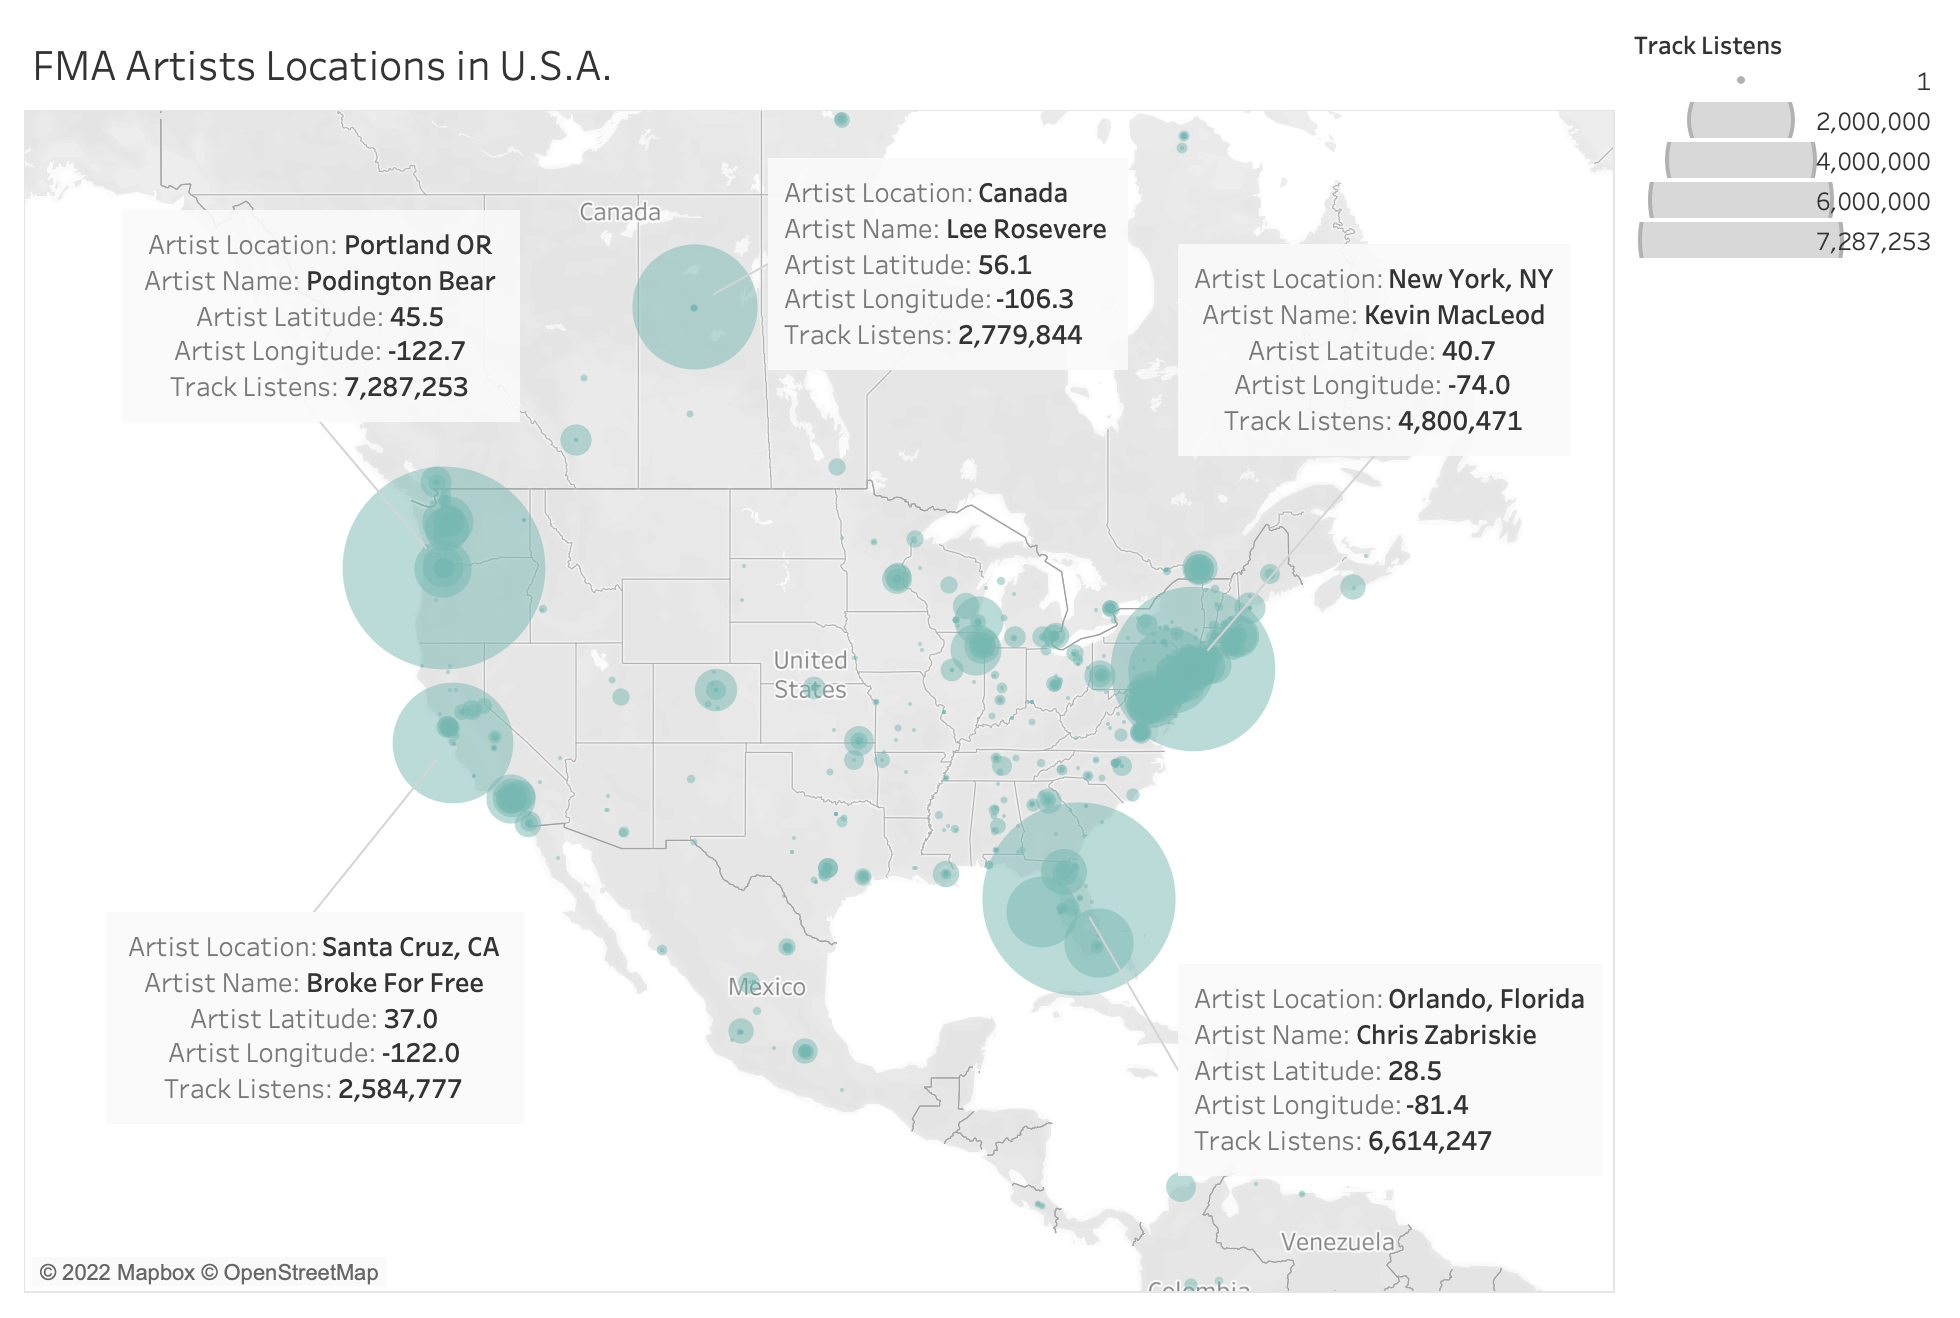

This screenshot's page, from the dashboard's own definition file:
{"tool":"tableau","page":{"name":"Dashboard 1 (2)","canvas":[1600,900],"ordinal":1},"visuals":[{"type":"worksheet","title":"Sheet 1","mark":"Automatic","box":[8,8,1584,884]}]}

Visuals, with their boxes on the page's 1600x900 design canvas (x1, y1, x2, y2). These are canvas units, not pixel positions in the 1960x1318 screenshot, which may show the page scaled, cropped or inside an application window:
"Sheet 1" worksheet: (8, 8, 1592, 892)
